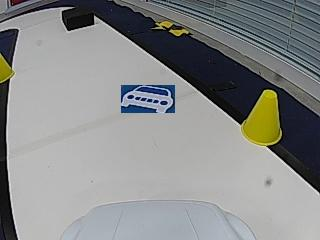block: (61, 6, 94, 31)
cone: (241, 88, 282, 145)
